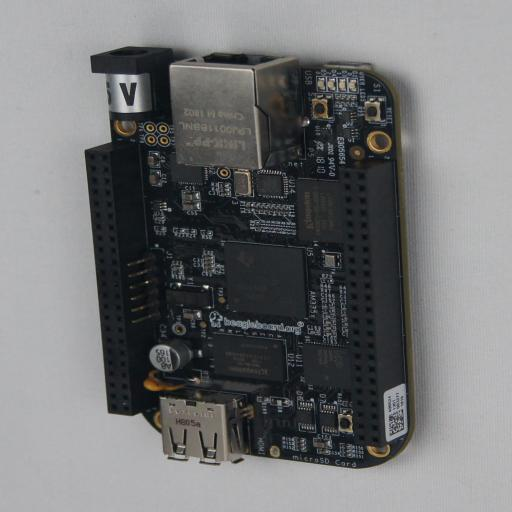Beaglebone Black: (85, 46, 422, 468)
